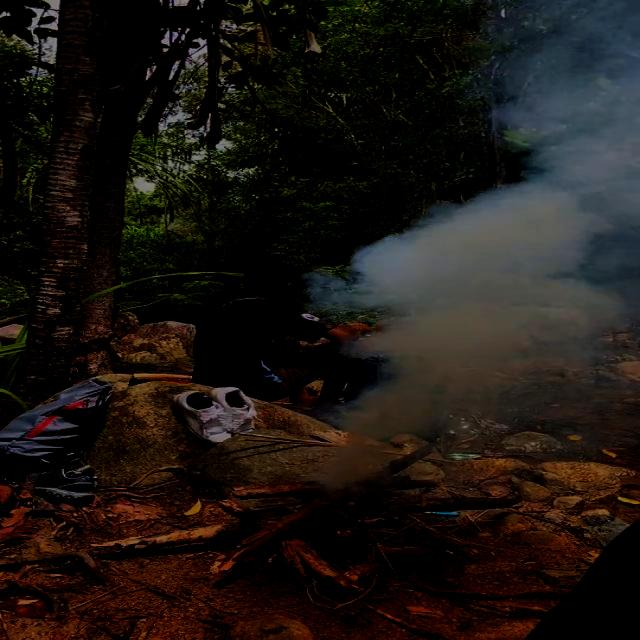smoke: (481, 190, 640, 366), (487, 0, 639, 142), (383, 355, 590, 433), (357, 250, 500, 353), (525, 134, 640, 196), (398, 212, 509, 254), (327, 408, 390, 474)
